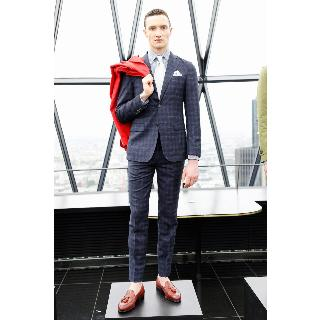loafers: (110, 274, 182, 320)
